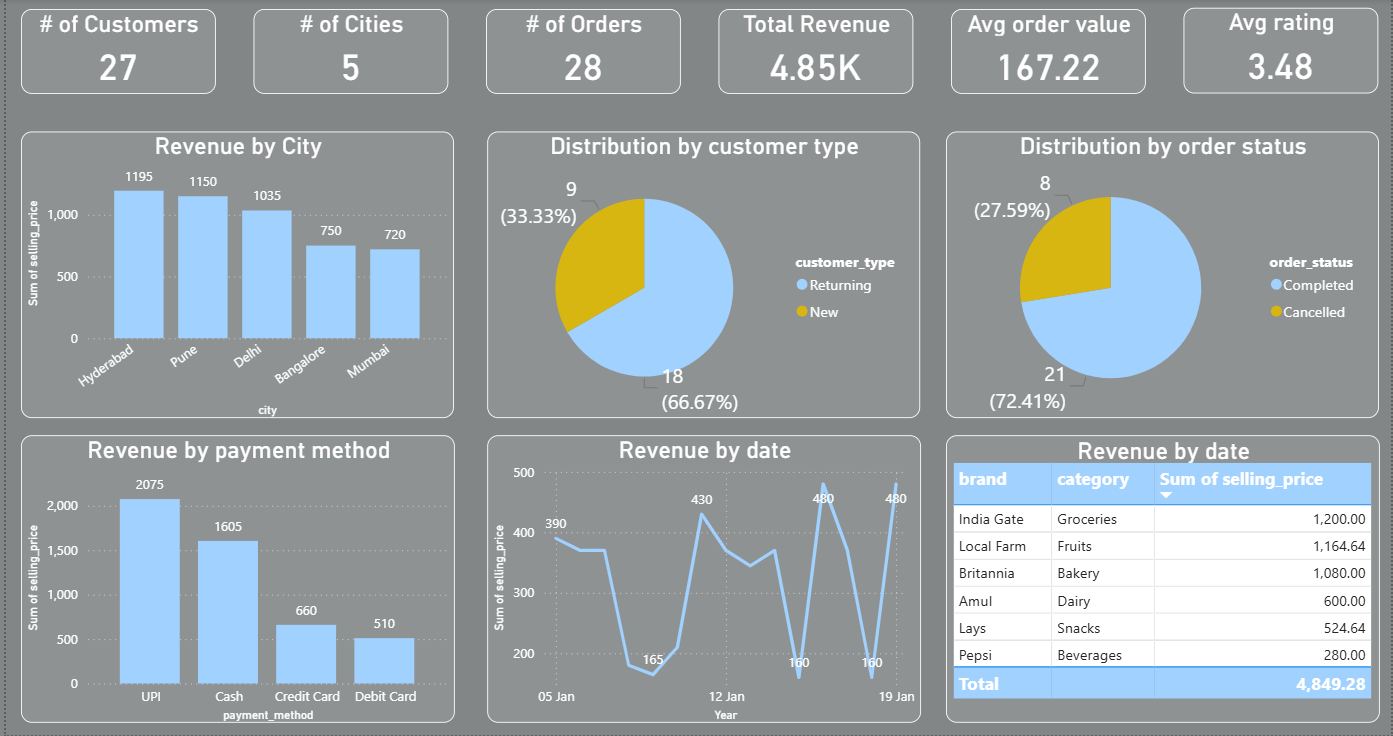

What the dashboard file says about the page in this screenshot:
{"tool":"powerbi","page":{"name":"Page 1","canvas":[1280,680],"ordinal":0},"visuals":[{"type":"card","title":"# of Customers","fields":{"Values":["Count(customers.customer_id)"]},"box":[13.8,8.8,180,78.8],"z":0},{"type":"card","title":"# of Cities","fields":{"Values":["Count(customers.city)"]},"box":[228.7,8.8,180,78.8],"z":1000},{"type":"card","title":"# of Orders","fields":{"Values":["Count(merge_dt.order_id)"]},"box":[443.6,8.8,180,78.8],"z":2000},{"type":"card","title":"Total Revenue","fields":{"Values":["Sum(merge_dt.selling_price)"]},"box":[658.5,8.8,180,78.8],"z":3000},{"type":"card","title":"Avg order value","fields":{"Values":["Avg(merge_dt.selling_price)"]},"box":[873.4,8.8,180,78.8],"z":4000},{"type":"card","title":"Avg rating","fields":{"Values":["Avg(merge_dt.rating)"]},"box":[1088.3,8.6,179.8,79.5],"z":5000},{"type":"columnChart","title":"Revenue by City","fields":{"Category":["merge_dt.city"],"Y":["Sum(merge_dt.selling_price)"]},"box":[13.8,122.5,400,265],"z":6000},{"type":"pieChart","title":"Distribution by customer type","fields":{"Category":["customers.customer_type"],"Y":["CountNonNull(customers.customer_id)"]},"box":[445,122.5,400,265],"z":7000},{"type":"pieChart","title":"Distribution by order status","fields":{"Y":["CountNonNull(merge_dt.order_id)"],"Category":["merge_dt.order_status"]},"box":[868.8,122.5,400,265],"z":8000},{"type":"columnChart","title":"Revenue by payment method","fields":{"Y":["Sum(merge_dt.selling_price)"],"Category":["merge_dt.payment_method"]},"box":[13.5,403.5,401.1,265.4],"z":9000},{"type":"lineChart","title":"Revenue by date","fields":{"Y":["Sum(merge_dt.selling_price)"],"Category":["merge_dt.order_date.Variation.Date Hierarchy.Year","merge_dt.order_date.Variation.Date Hierarchy.Quarter","merge_dt.order_date.Variation.Date Hierarchy.Month","merge_dt.order_date.Variation.Date Hierarchy.Day"]},"box":[445.1,403.5,401.1,265.4],"z":10000},{"type":"tableEx","title":"Revenue by date","fields":{"Values":["products.brand","products.category","Sum(merge_dt.selling_price)"]},"box":[868.2,403.5,401.1,265.4],"z":10001}]}

Visuals, with their boxes in screenshot pixels (x1, y1, x2, y2), scaled from the page's 1280x680 canvas onto the 1393x736 screenshot:
"# of Customers" card: (15, 10, 211, 95)
"# of Cities" card: (249, 10, 445, 95)
"# of Orders" card: (483, 10, 679, 95)
"Total Revenue" card: (717, 10, 913, 95)
"Avg order value" card: (951, 10, 1146, 95)
"Avg rating" card: (1184, 9, 1380, 95)
"Revenue by City" columnChart: (15, 133, 450, 419)
"Distribution by customer type" pieChart: (484, 133, 920, 419)
"Distribution by order status" pieChart: (945, 133, 1381, 419)
"Revenue by payment method" columnChart: (15, 437, 451, 724)
"Revenue by date" lineChart: (484, 437, 921, 724)
"Revenue by date" tableEx: (945, 437, 1381, 724)
